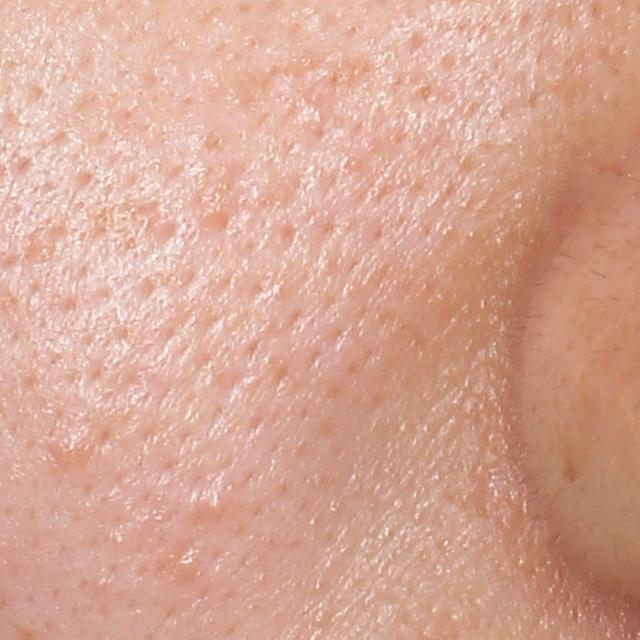comedo: (52, 435, 85, 467), (201, 490, 226, 521), (173, 550, 199, 577)
